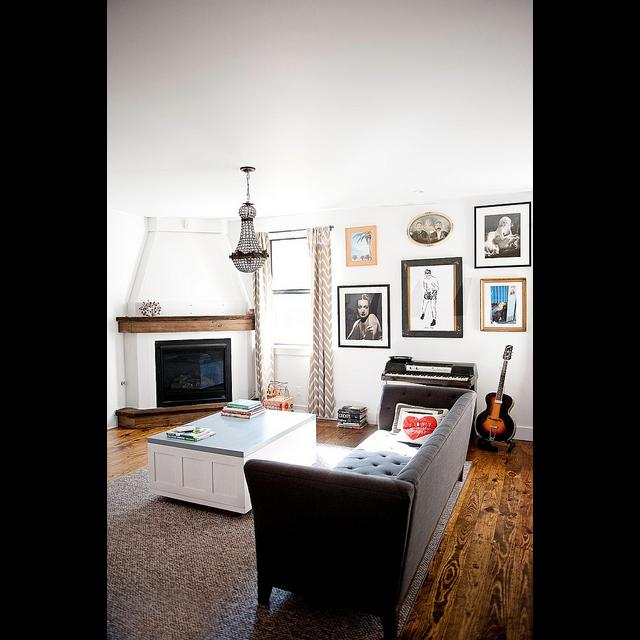Flat-Panel-TV: (156, 337, 234, 409)
